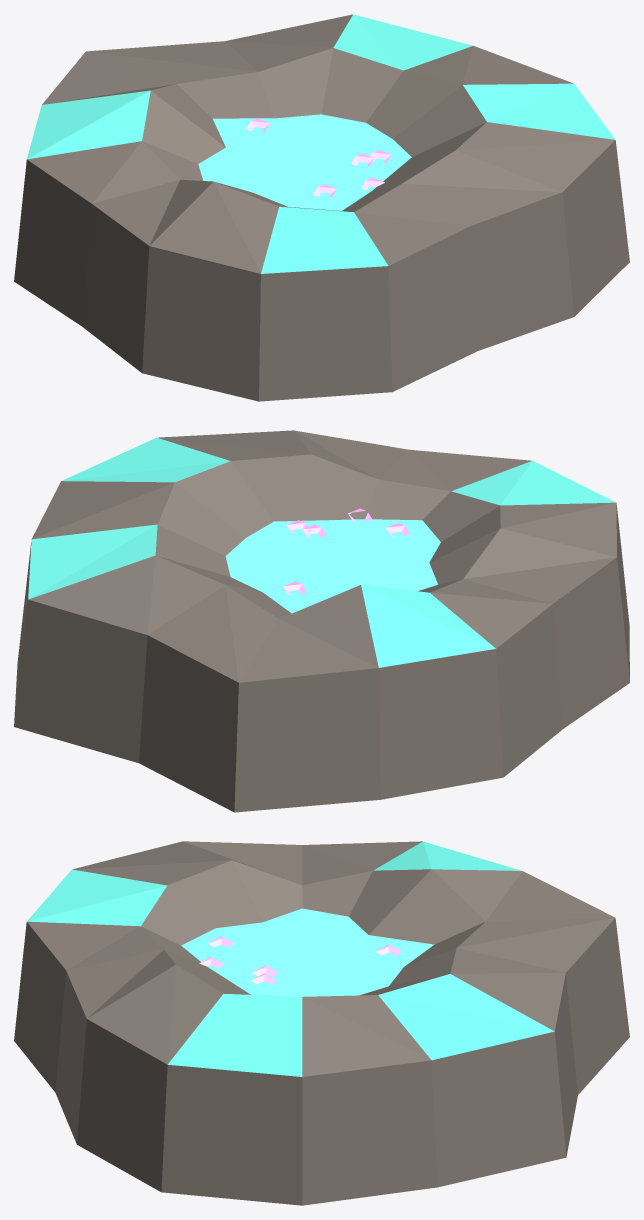
Rendered from tidepool_rock.glb.
3 views of the same model, one above another, from view 1: azimuth 30°, elevation 25°; view 2: azimuth 150°, elevation 25°; view 3: azimuth 270°, elevation 25° (orthographic). The views are drawn at different scales.
Parts seen in each view (by area): view 1: tidepool_rock; view 2: tidepool_rock; view 3: tidepool_rock.
Boxes of the visible parts, x1,y1,x2,y2 form: tidepool_rock: [14, 14, 629, 401]; tidepool_rock: [14, 430, 629, 812]; tidepool_rock: [14, 841, 629, 1205].
Size of the model in its own units: 1.48 by 0.4339 by 1.55.
